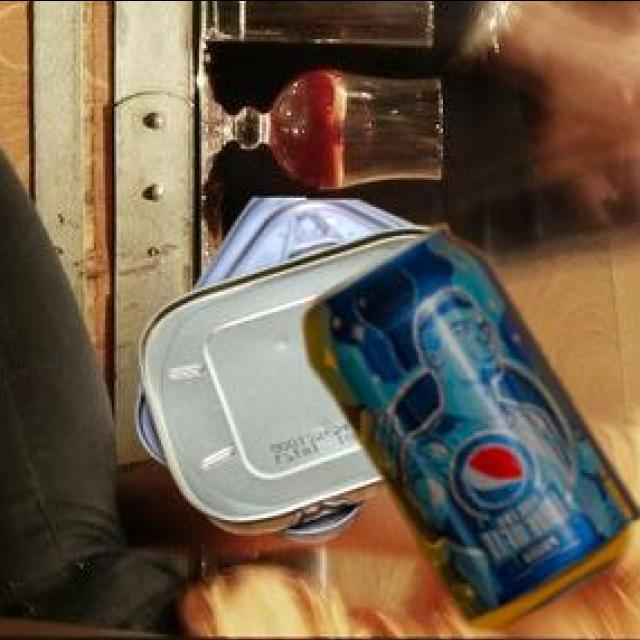logam: (308, 232, 640, 632), (140, 200, 435, 545)
